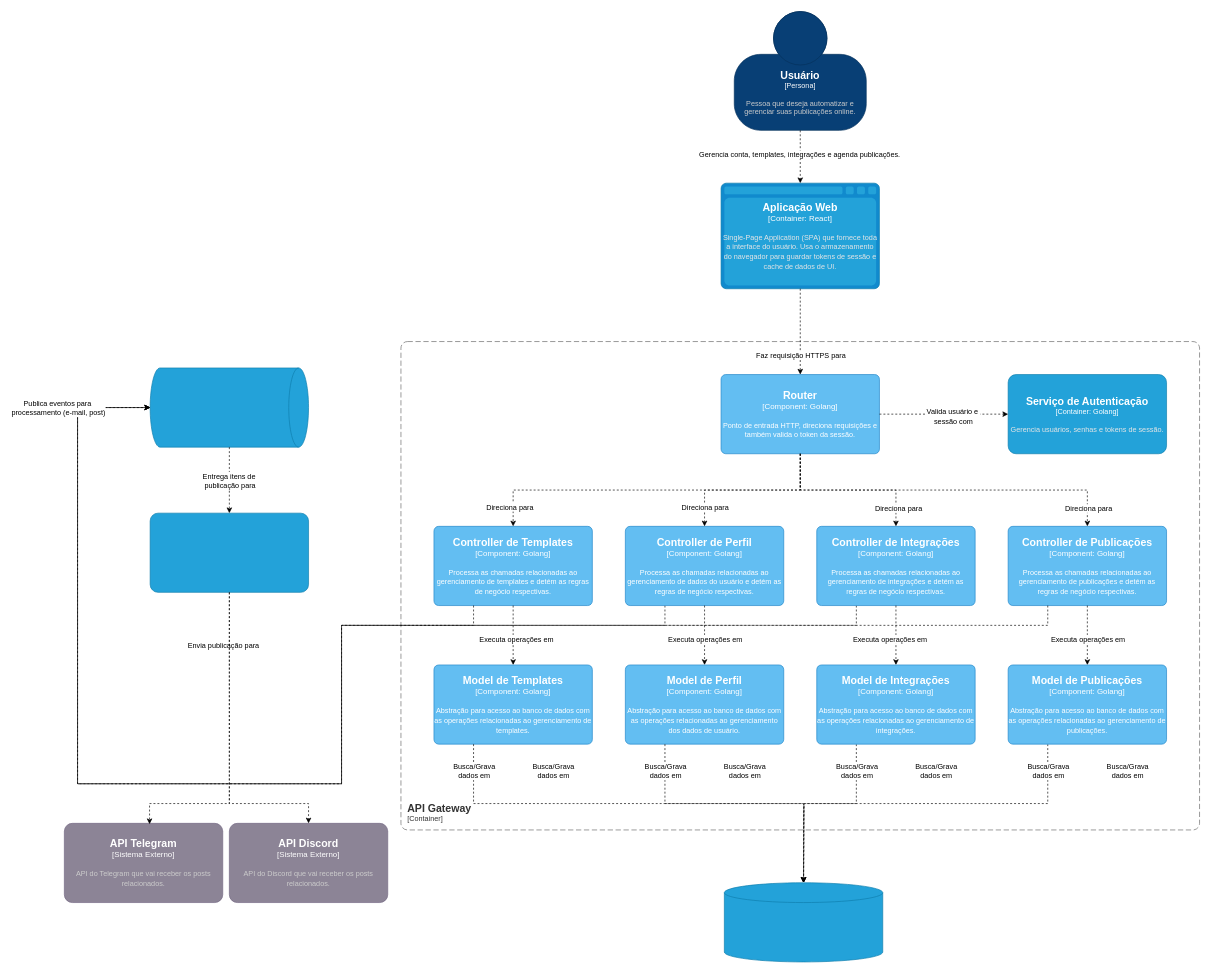
The diagram is 1211 pixels wide and 974 high, and some of its shapes have lost their labels. The centre of each missing label's shape, as x and y in pixels:
"Banco de Dados [Container: MySQL] Persiste todos os dados da aplicação." goes at point 803,922.
"Gerenciador de Filas [Container: Golang] Gerencia os itens da fila." goes at point 229,407.
"Serviço de Publicação [Container: Golang] Processa a fila de publicações." goes at point 229,552.
